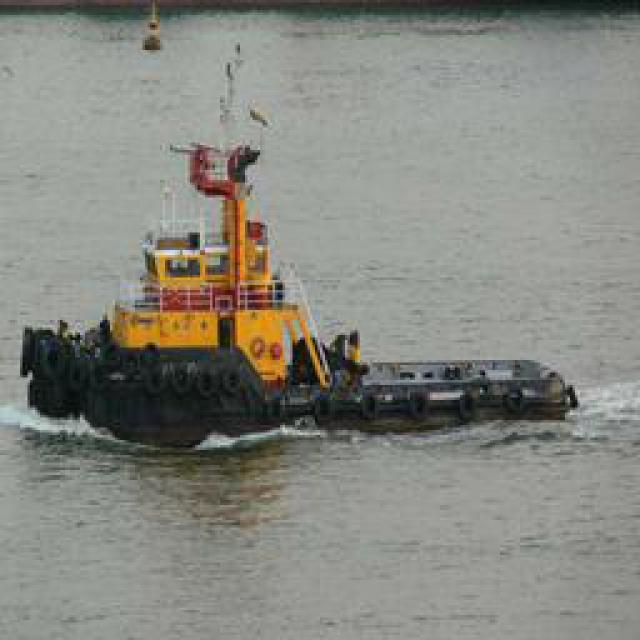Ship: (46, 49, 359, 442)
